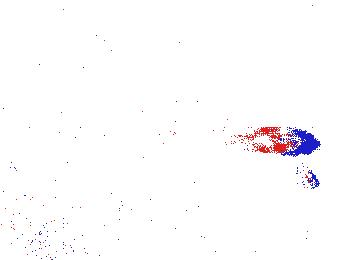X-ray fish: (249, 125, 318, 160), (291, 159, 322, 190)
red belly glassfish: (238, 141, 268, 155)
